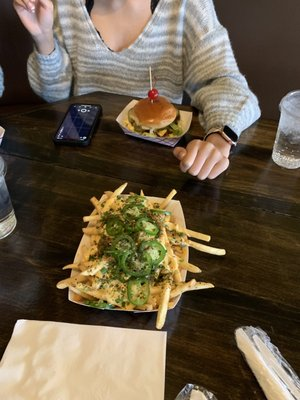pizza: (271, 89, 300, 169)
soup: (128, 96, 177, 132)
